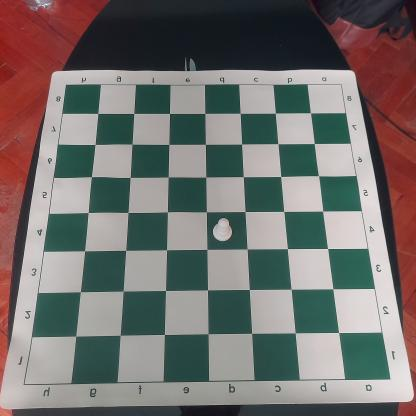white-pawn: (212, 218, 233, 242)
